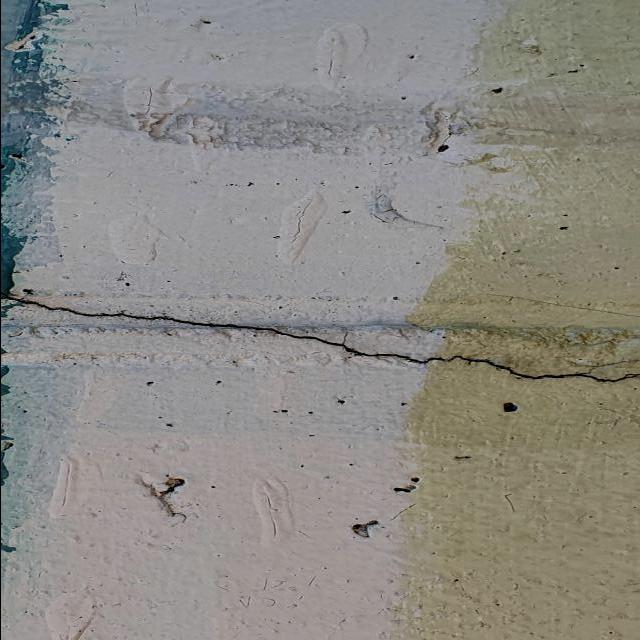SurfaceCrack: (0, 273, 639, 425)
